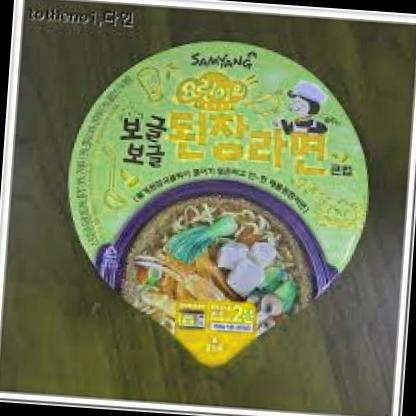Ramen: (47, 27, 379, 361)
